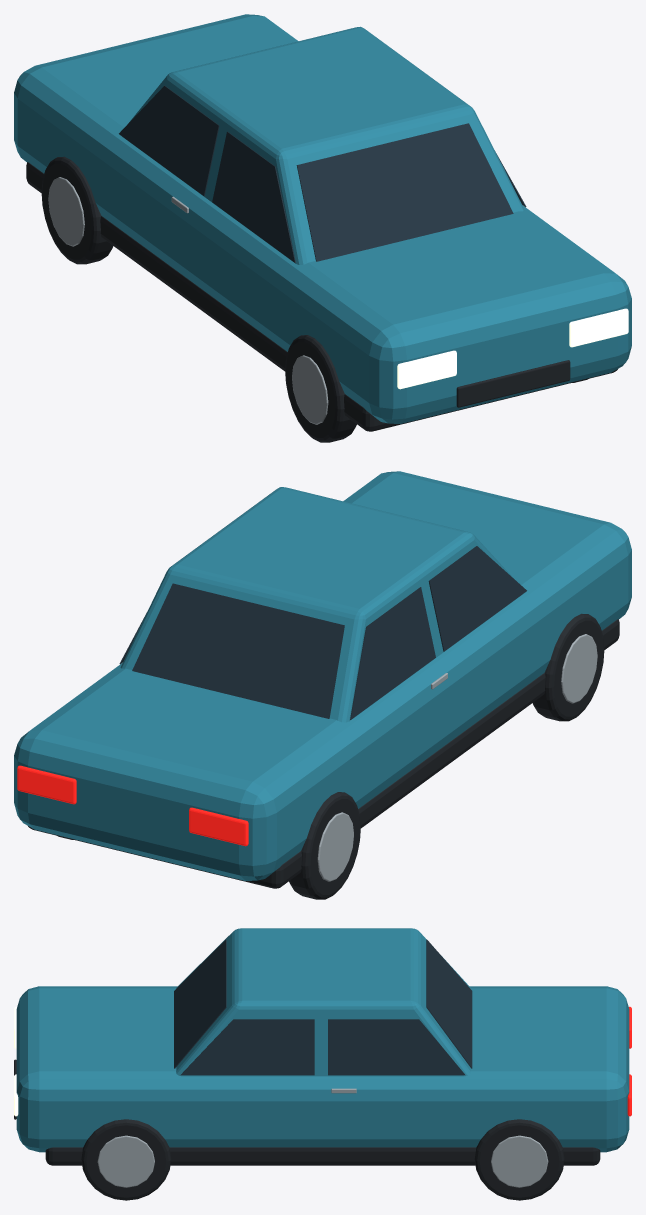
Rendered from car-a.glb.
3 views of the same model, one above another, from view 1: azimuth 30°, elevation 25°; view 2: azimuth 150°, elevation 25°; view 3: azimuth 270°, elevation 25° (orthographic). The views are drawn at different scales.
Parts seen in each view (by area): view 1: car-body, car-cabin, windscreen, -1-rear-window, lower-sill, -1-front-window, wheel--1--1.4, wheel--1-1.4, front-grille, hub--1-1.4, hub--1--1.4, headlamp--1 (+1 smaller); view 2: car-body, car-cabin, rear-window, -1-rear-window, lower-sill, -1-front-window, wheel--1-1.4, wheel--1--1.4, hub--1--1.4, hub--1-1.4, tail-lamp--1, tail-lamp-1; view 3: car-body, car-cabin, lower-sill, 1-rear-window, 1-front-window, windscreen, rear-window, wheel-1-1.4, wheel-1--1.4, hub-1-1.4, hub-1--1.4.
Boxes of the visible parts, x1=… form: car-body: x1=14, y1=14, x2=631, y2=423; car-cabin: x1=122, y1=26, x2=524, y2=264; windscreen: x1=296, y1=123, x2=513, y2=261; -1-rear-window: x1=119, y1=85, x2=219, y2=196; lower-sill: x1=26, y1=162, x2=617, y2=431; -1-front-window: x1=212, y1=131, x2=295, y2=262; wheel--1--1.4: x1=285, y1=335, x2=356, y2=442; wheel--1-1.4: x1=41, y1=156, x2=113, y2=264; front-grille: x1=456, y1=360, x2=570, y2=407; hub--1-1.4: x1=48, y1=177, x2=84, y2=246; hub--1--1.4: x1=292, y1=355, x2=328, y2=424; headlamp--1: x1=397, y1=350, x2=456, y2=389; car-body: x1=14, y1=471, x2=631, y2=880; car-cabin: x1=120, y1=487, x2=522, y2=722; rear-window: x1=132, y1=583, x2=344, y2=718; -1-rear-window: x1=350, y1=587, x2=435, y2=719; lower-sill: x1=28, y1=619, x2=619, y2=888; -1-front-window: x1=428, y1=546, x2=526, y2=651; wheel--1-1.4: x1=289, y1=792, x2=360, y2=899; wheel--1--1.4: x1=532, y1=613, x2=604, y2=721; hub--1--1.4: x1=561, y1=634, x2=597, y2=703; hub--1-1.4: x1=317, y1=812, x2=353, y2=881; tail-lamp--1: x1=189, y1=807, x2=248, y2=846; tail-lamp-1: x1=17, y1=765, x2=76, y2=804; car-body: x1=16, y1=986, x2=629, y2=1152; car-cabin: x1=176, y1=928, x2=470, y2=1076; lower-sill: x1=45, y1=1147, x2=600, y2=1165; 1-rear-window: x1=328, y1=1019, x2=465, y2=1075; 1-front-window: x1=180, y1=1019, x2=314, y2=1075; windscreen: x1=174, y1=939, x2=226, y2=1068; rear-window: x1=426, y1=939, x2=472, y2=1068; wheel-1-1.4: x1=474, y1=1119, x2=564, y2=1200; wheel-1--1.4: x1=81, y1=1119, x2=171, y2=1200; hub-1-1.4: x1=491, y1=1135, x2=548, y2=1187; hub-1--1.4: x1=97, y1=1135, x2=154, y2=1187.
Bounding box in the file's own units: 1.8 × 1.45 × 4.4.
